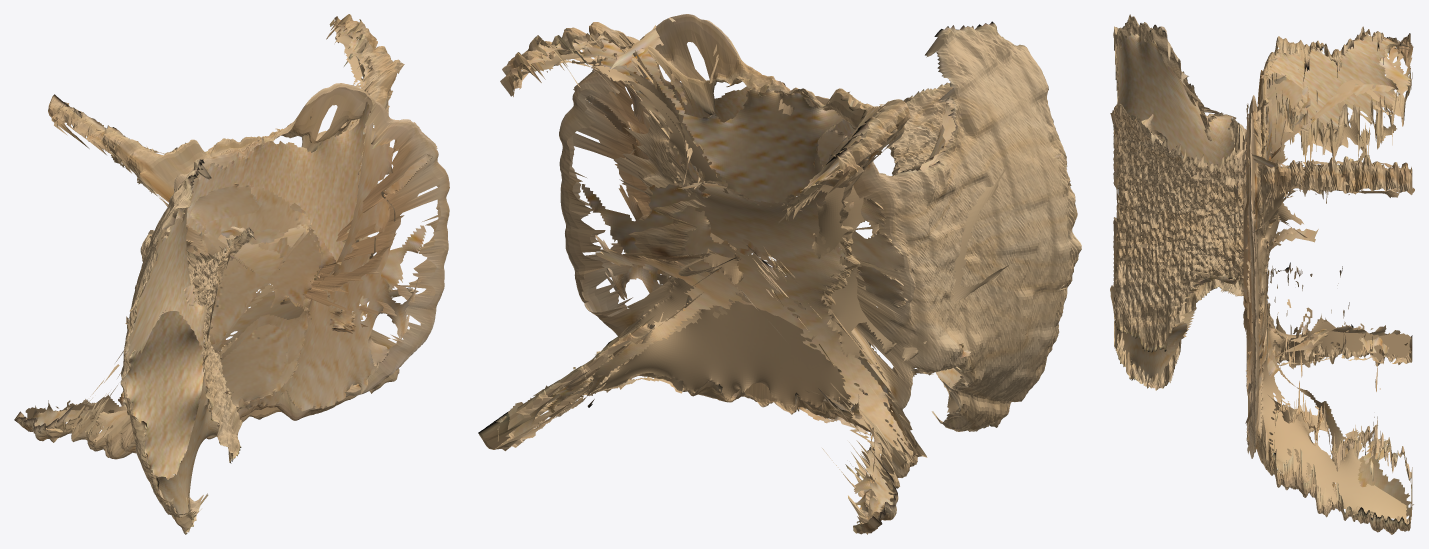
Rendered from mesh_inpaint.glb.
3 renders of one model, left to right at view 1: azimuth 30°, elevation 25°; view 2: azimuth 150°, elevation 25°; view 3: azimuth 270°, elevation 25°, orthographic. The views are drawn at different scales.
Visible parts, largest first — view 1: fill, ipn; view 2: ipn, fill; view 3: ipn, fill.
Part boxes in pixels (x1,y1,x2,y2): fill: (25,22,437,517); ipn: (14,14,449,534); ipn: (478,14,1081,534); fill: (497,17,1073,533); ipn: (1113,14,1412,534); fill: (1110,24,1414,524).
Size of the model in its own units: 1.63 by 1.43 by 1.06.
Materials: 2 (1 with a texture image).
